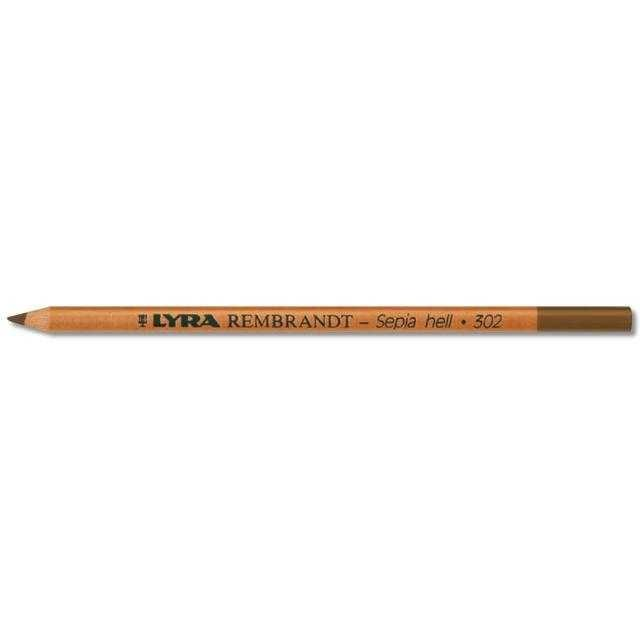pencil: (4, 289, 639, 354)
